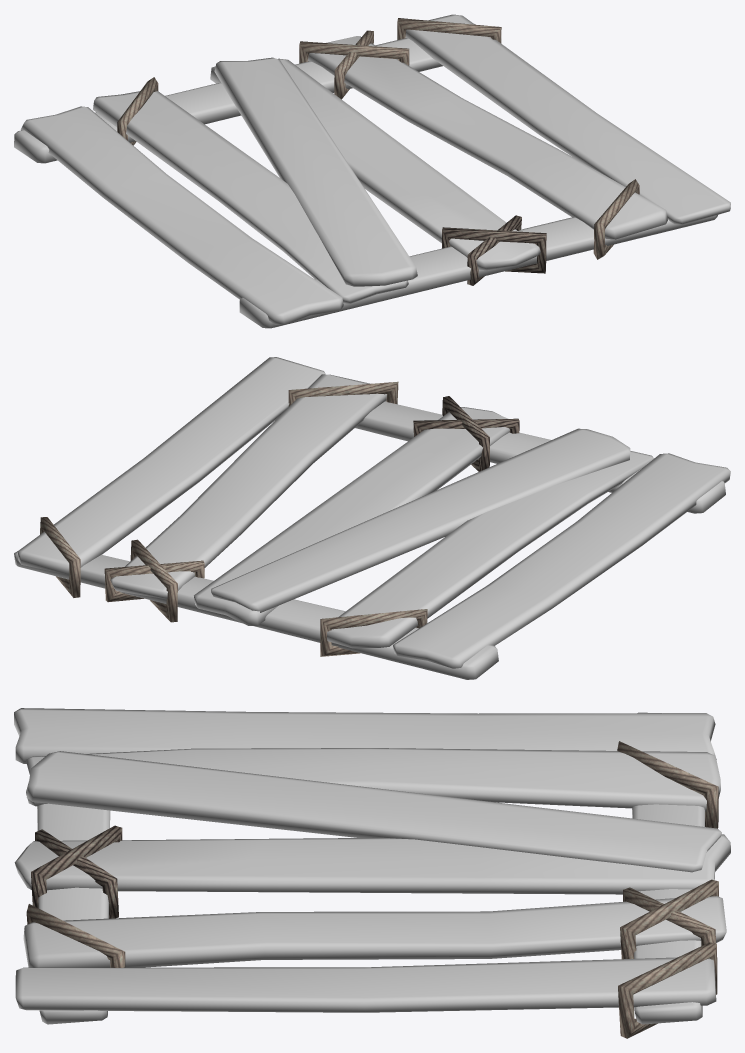
Rendered from WoodenPlateform_A.FBX.
3 views of the same model, one above another, from view 1: azimuth 30°, elevation 25°; view 2: azimuth 150°, elevation 25°; view 3: azimuth 270°, elevation 25° (orthographic). The views are drawn at different scales.
Parts seen in each view (by area): view 1: WoodenPlateform_A; view 2: WoodenPlateform_A; view 3: WoodenPlateform_A.
Part boxes in pixels (x1,y1,x2,y2): WoodenPlateform_A: [14, 14, 730, 328]; WoodenPlateform_A: [14, 357, 730, 679]; WoodenPlateform_A: [14, 708, 730, 1038].
Bounding box in the file's own units: 297 × 24.29 × 303.
